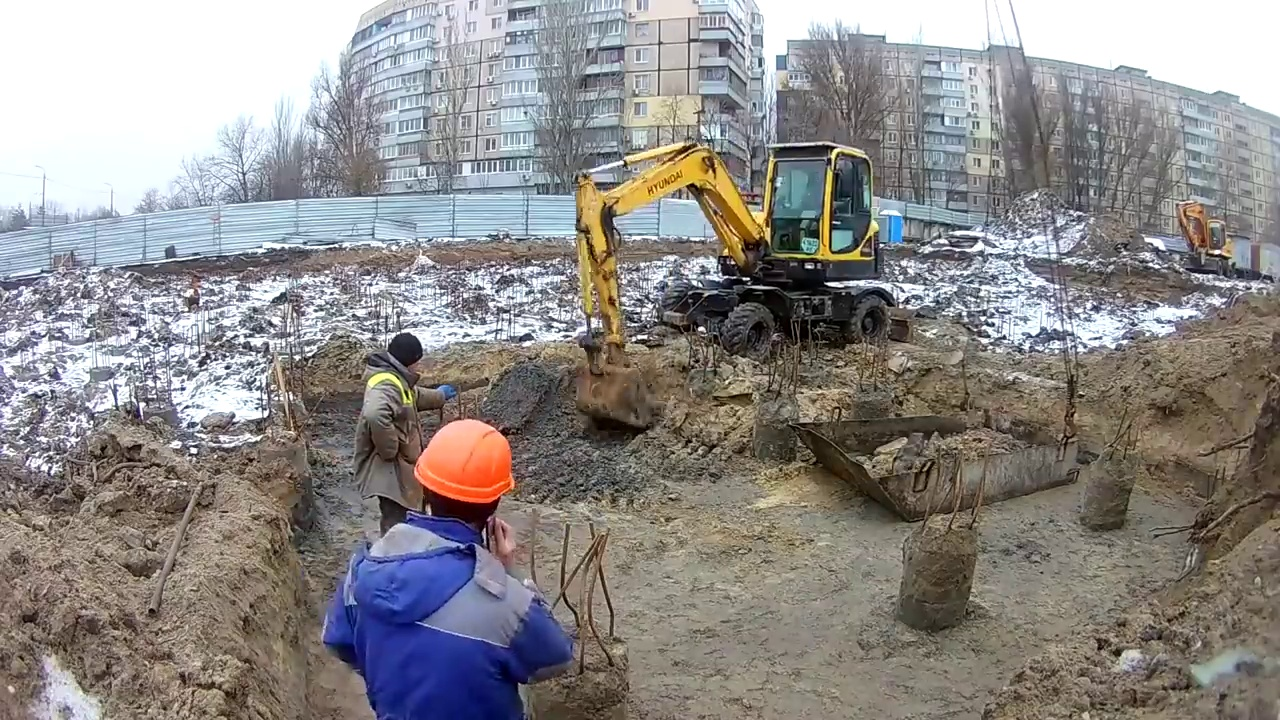helmet: (412, 417, 517, 506)
helmet-off: (383, 337, 422, 380)
helmet-on: (399, 420, 516, 554)
person: (318, 412, 565, 720), (352, 336, 435, 537)
